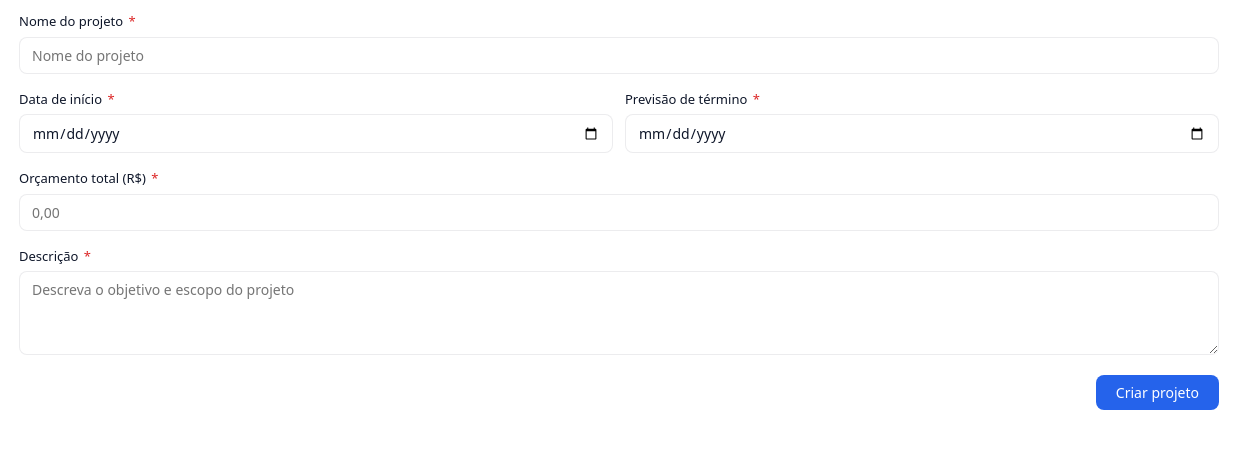
Scenario: ProjectForm › exibe erro quando o orçamento é zero ou negativo
In the field labelled "Nome do projeto *": (619, 55) [19, 36, 1219, 74], type "Projeto Teste"
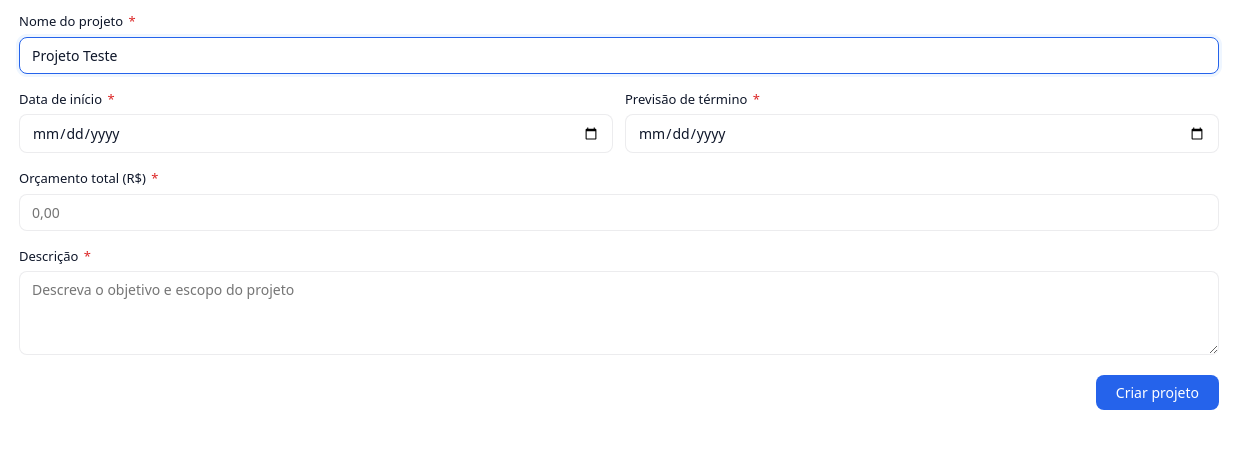
In the date field labelled "Data de início *": (316, 134) [19, 114, 613, 153], type "2024-01-01"
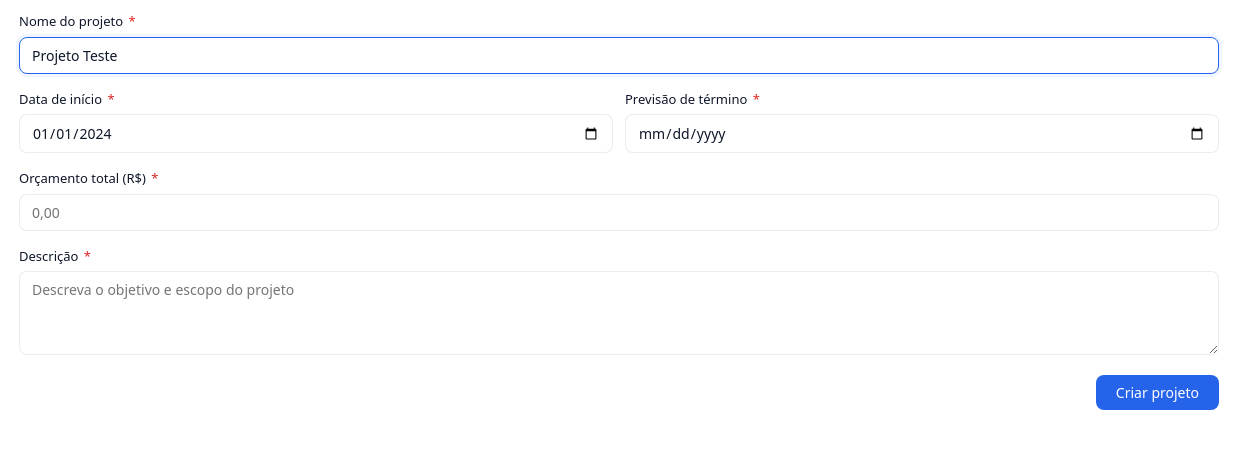
In the date field labelled "Previsão de término *": (922, 134) [625, 114, 1219, 153], type "2024-06-01"
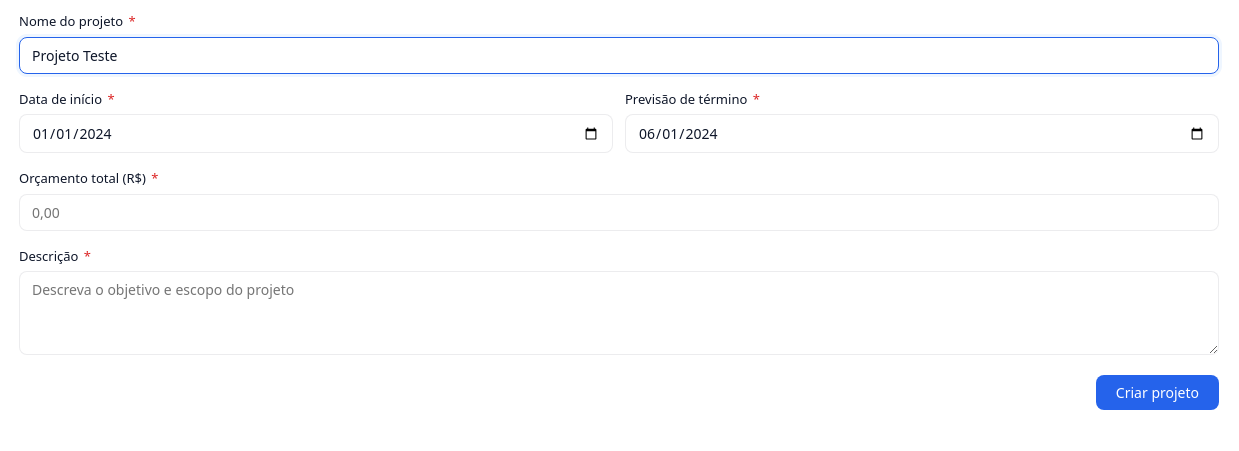
In the number field labelled "Orçamento total (R$) *": (619, 212) [19, 194, 1219, 230], type "0"
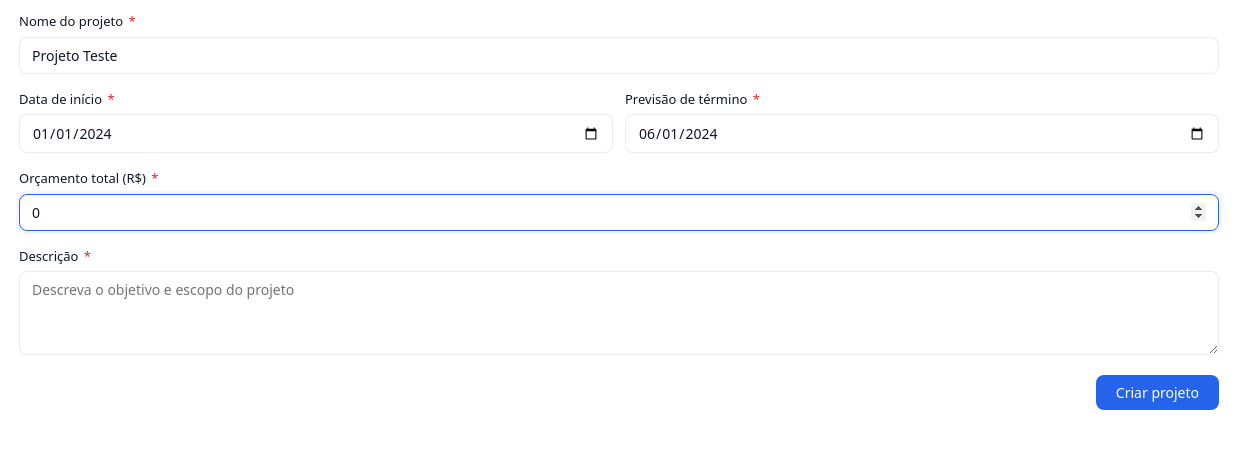
In the text box labelled "Descrição *": (619, 313) [19, 271, 1219, 355], type "Descrição válida"
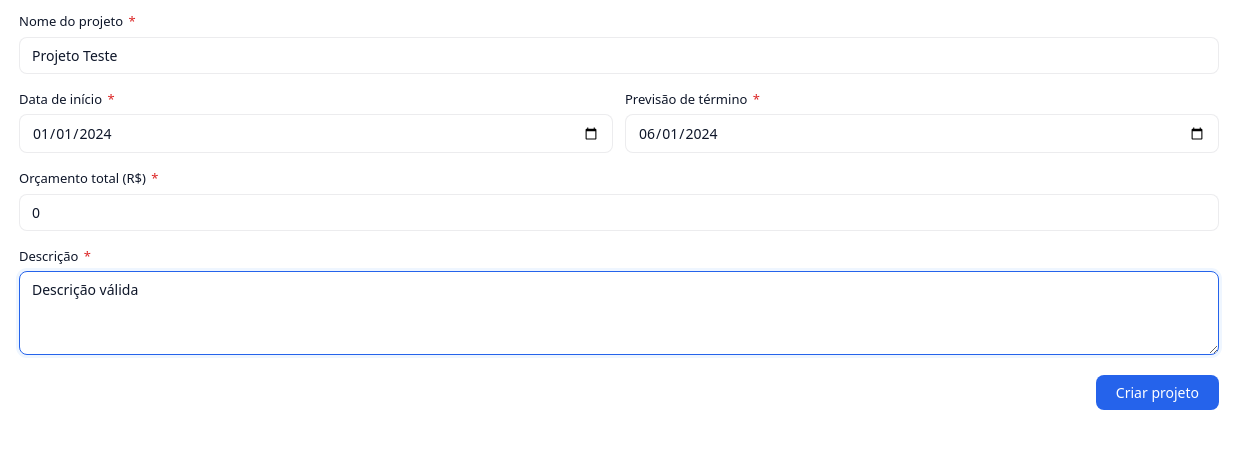
Click the button "Criar projeto": (1157, 392) [1096, 375, 1219, 410]
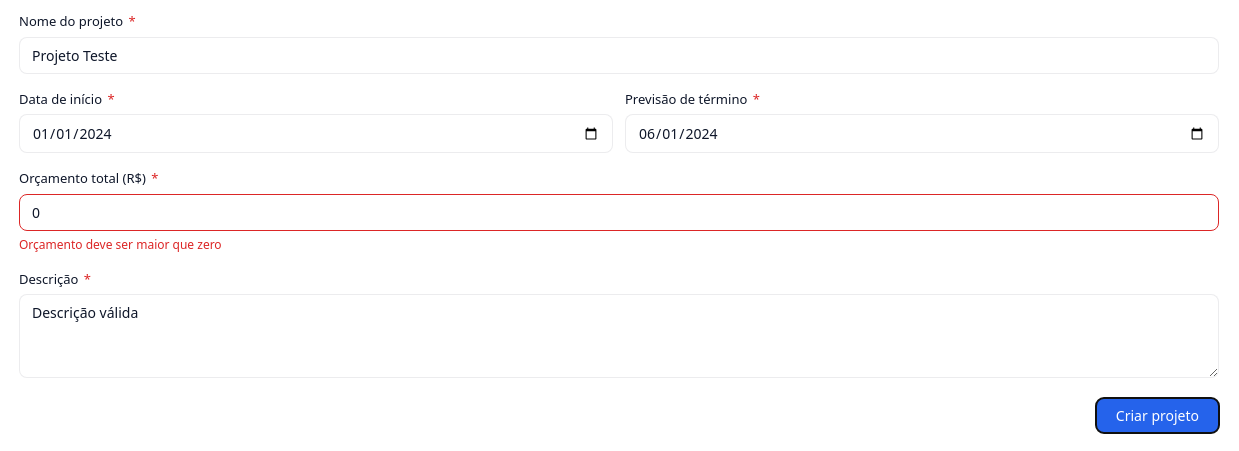
Expected: the text "Orçamento deve ser maior que zero" is shown, [19, 236, 222, 252]
